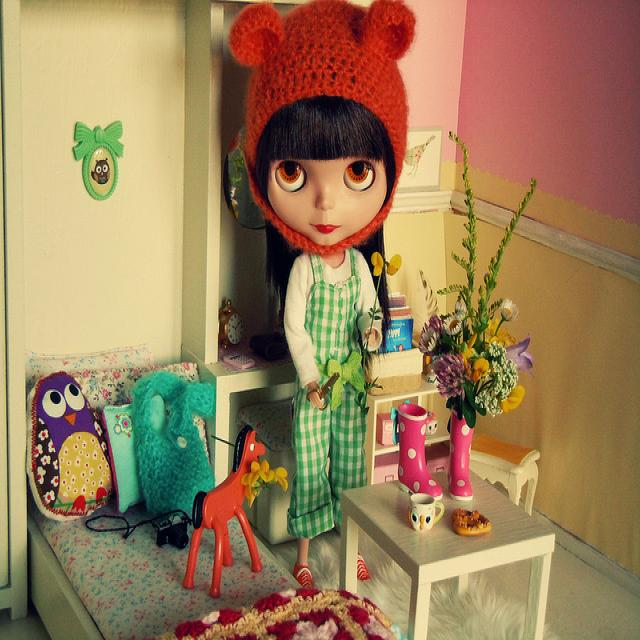chair: (469, 431, 542, 515)
dining table: (337, 472, 557, 631)
